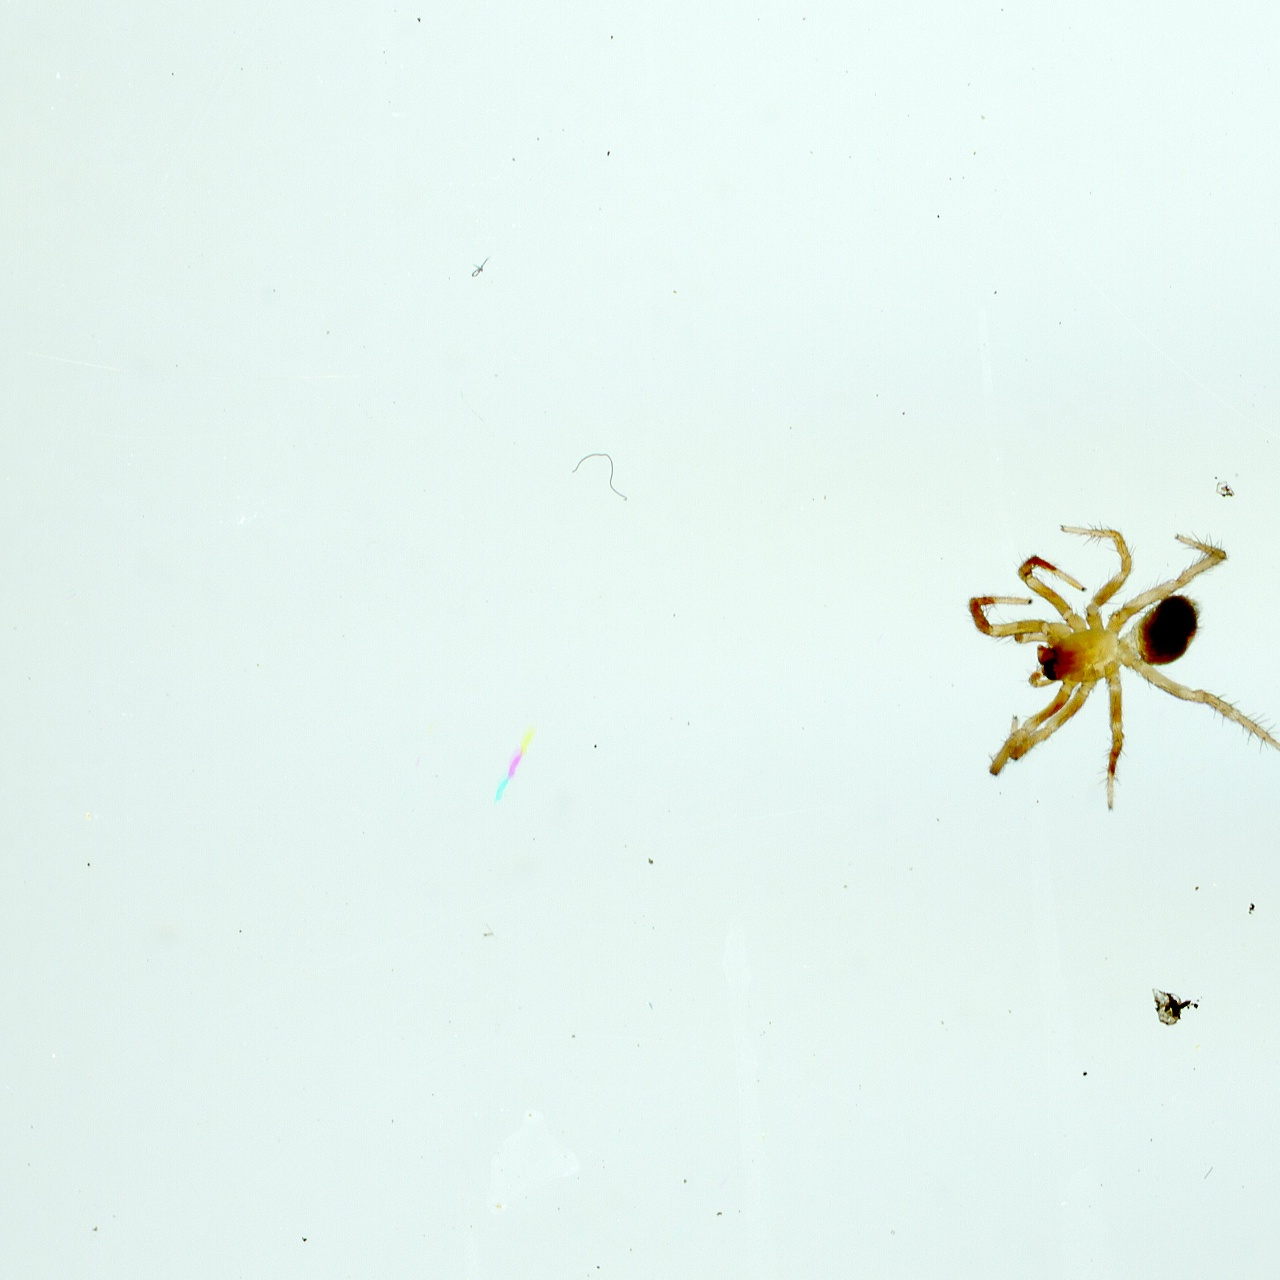arthropod: (964, 519, 1280, 808)
